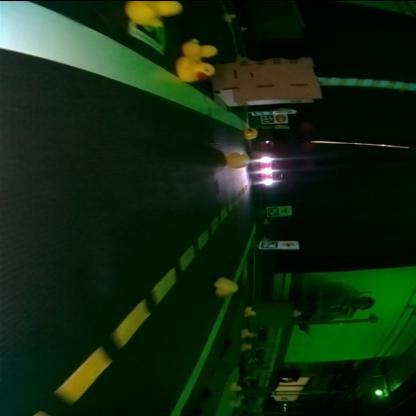Duckie: (130, 2, 184, 26), (178, 55, 212, 79), (182, 38, 218, 56), (214, 275, 238, 296), (226, 151, 250, 167), (248, 126, 260, 138), (245, 306, 257, 314), (243, 327, 251, 335)
Intersection sign: (282, 240, 297, 246), (283, 206, 292, 214)
QR code: (129, 19, 167, 53), (261, 240, 279, 247), (264, 113, 275, 122), (268, 207, 280, 212)
Stop sign: (276, 115, 288, 121)
